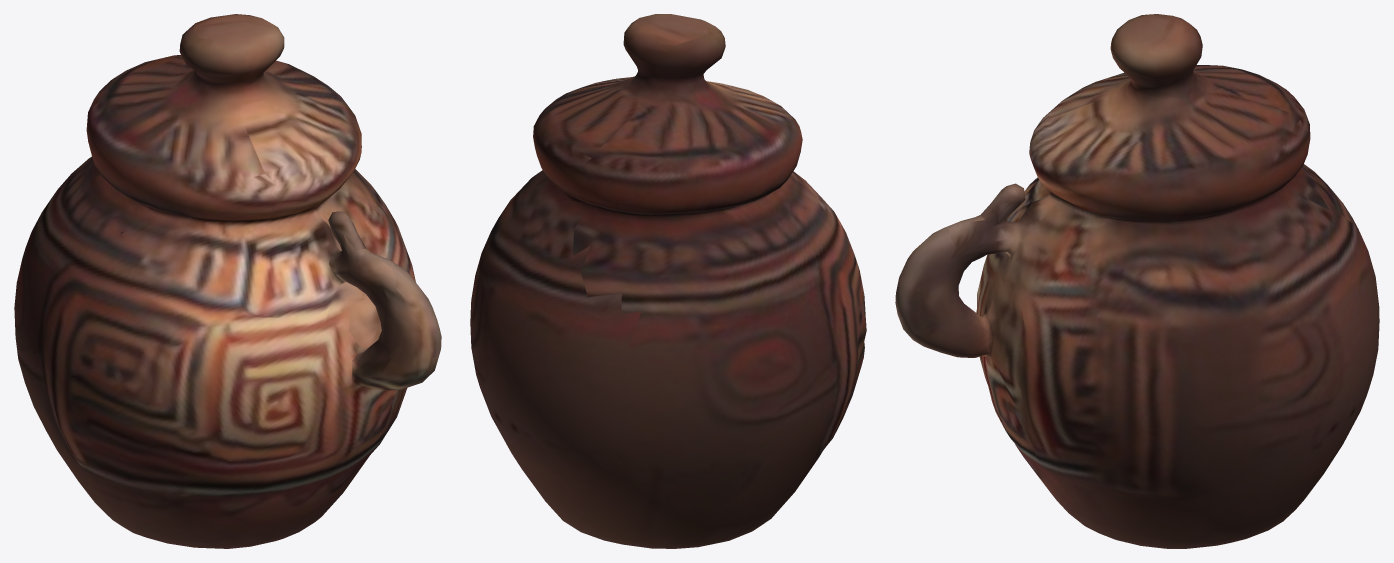
The model's file is v03_pote_tampa.glb.
3 renders of one model, left to right at view 1: azimuth 30°, elevation 25°; view 2: azimuth 150°, elevation 25°; view 3: azimuth 270°, elevation 25°, orthographic. The views are drawn at different scales.
Visible parts, largest first — view 1: v03_pote_tampa; view 2: v03_pote_tampa; view 3: v03_pote_tampa.
Part boxes in pixels (x1,y1,x2,y2): v03_pote_tampa: (14, 14, 441, 548); v03_pote_tampa: (470, 14, 866, 548); v03_pote_tampa: (895, 14, 1379, 548).
Size of the model in its own units: 0.3859 by 0.5146 by 0.4693.
Materials: 1 (1 with a texture image).
